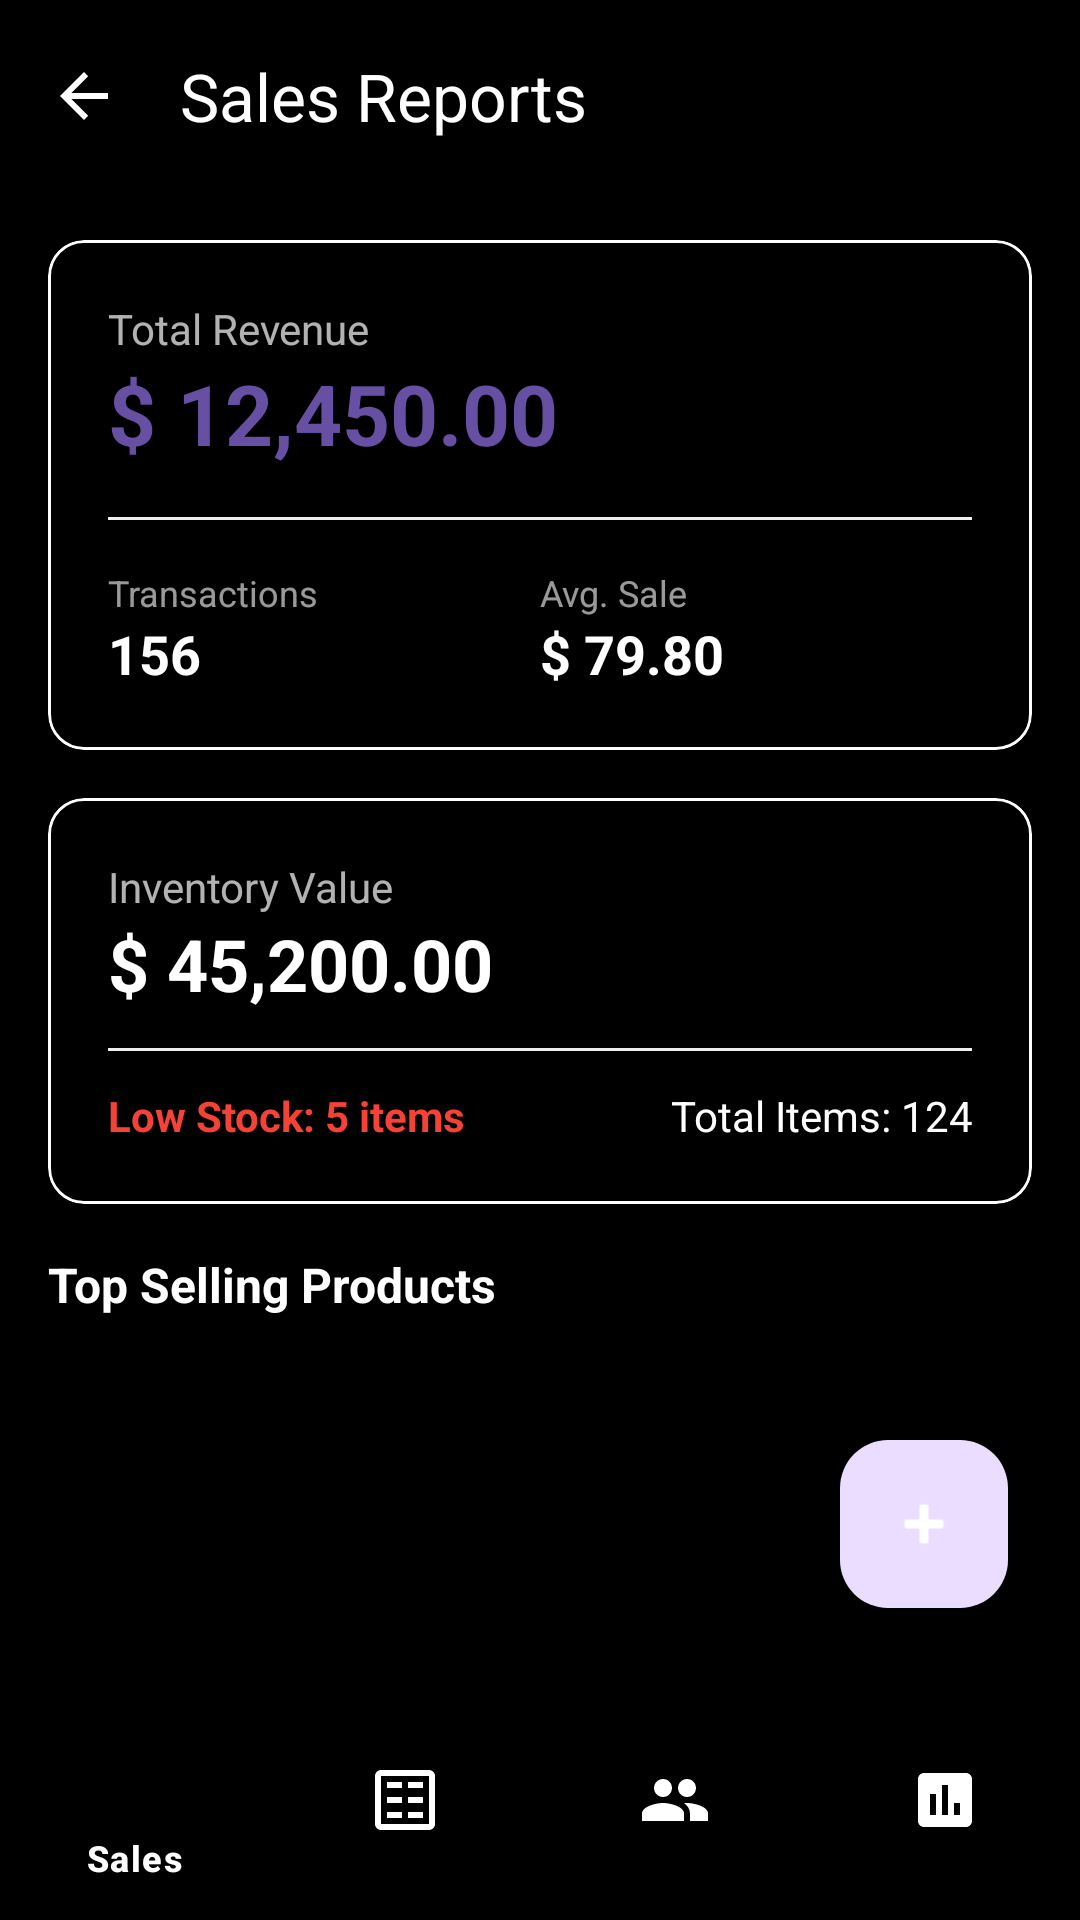

Screen size 1080 x 1920. Icon name, then its center in pixels as (x=x, y=y):
add: (x=924, y=1524)
